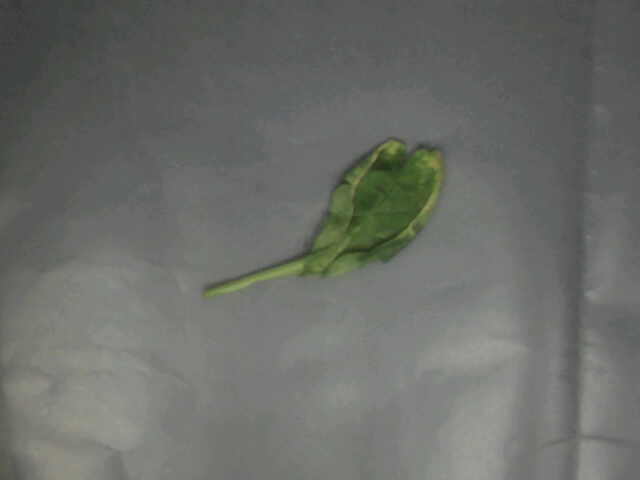yellow: (226, 97, 470, 293)
